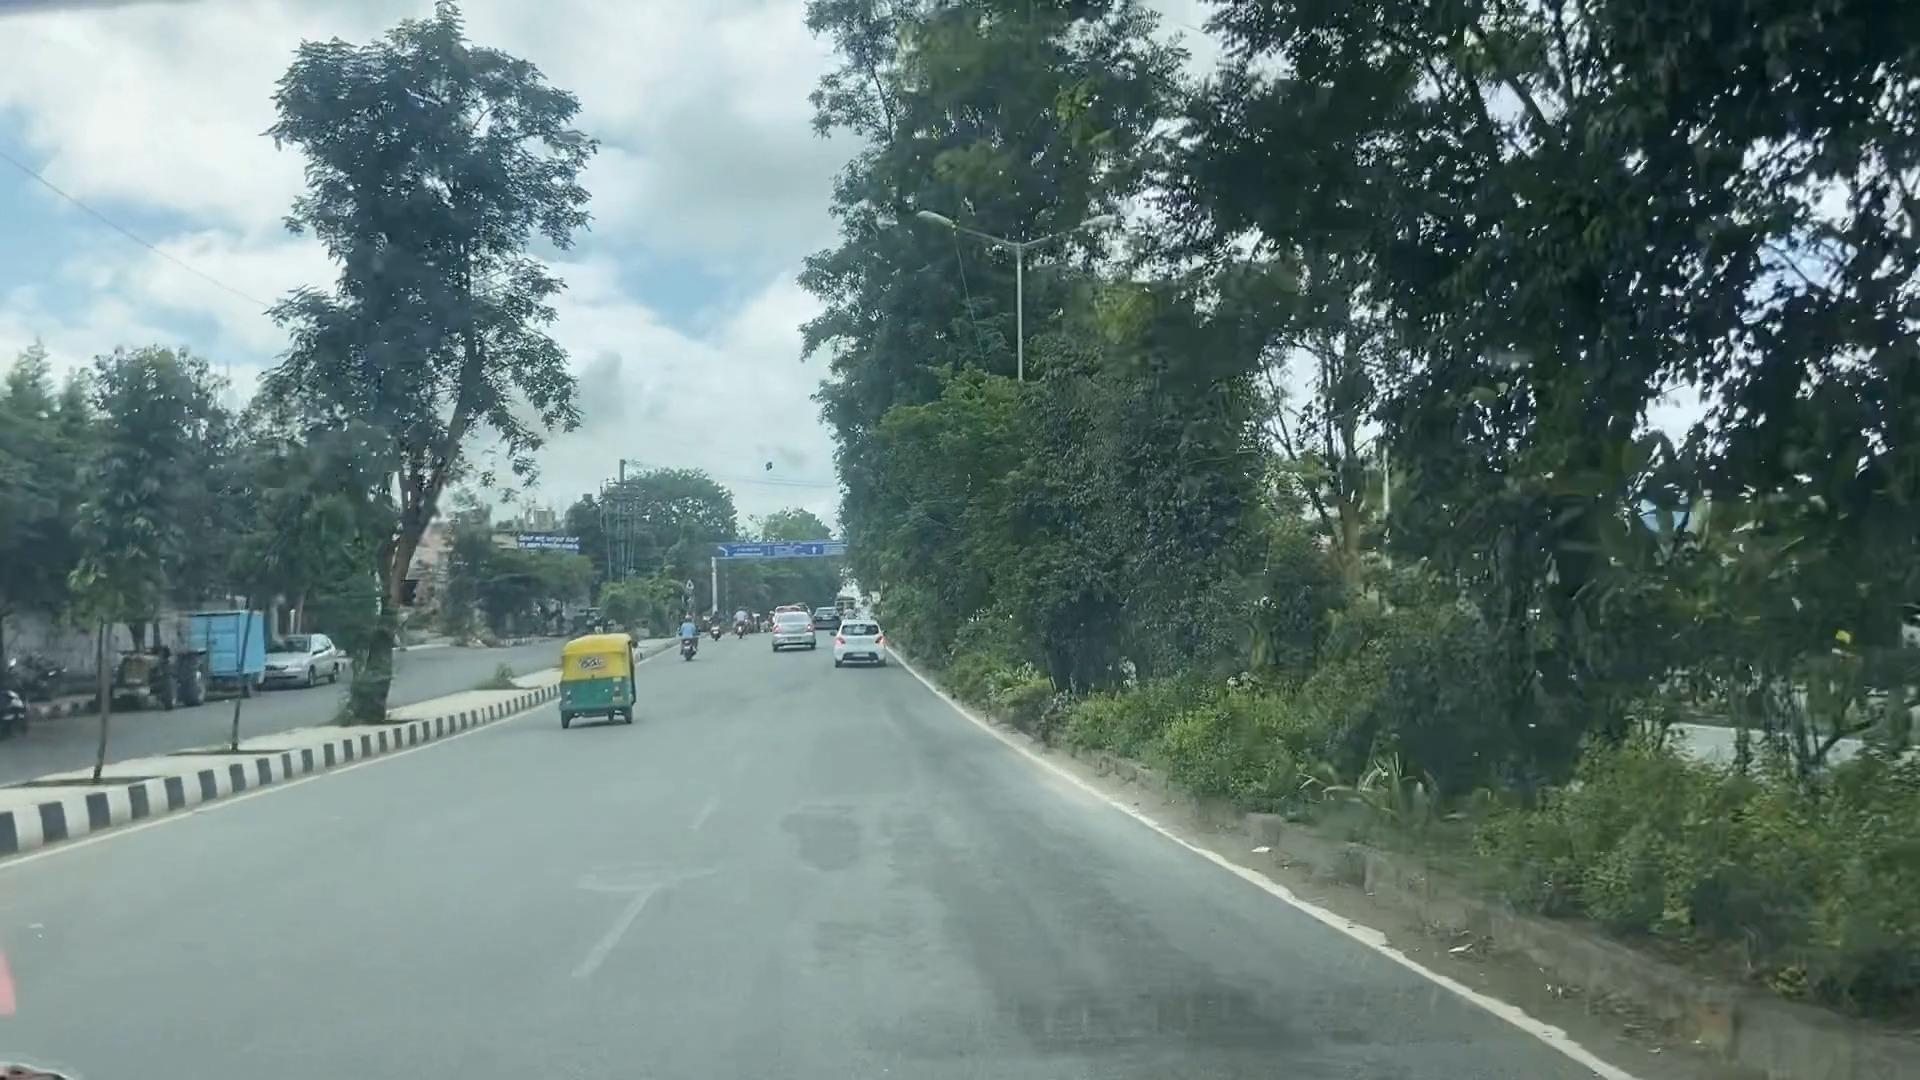LMV: (560, 632, 640, 726), (834, 618, 884, 668), (774, 608, 811, 651), (676, 620, 697, 662)
